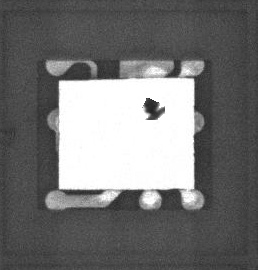DIE_INK: (142, 98, 167, 121)
